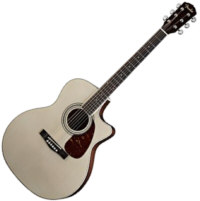guitar: (1, 2, 198, 200)
